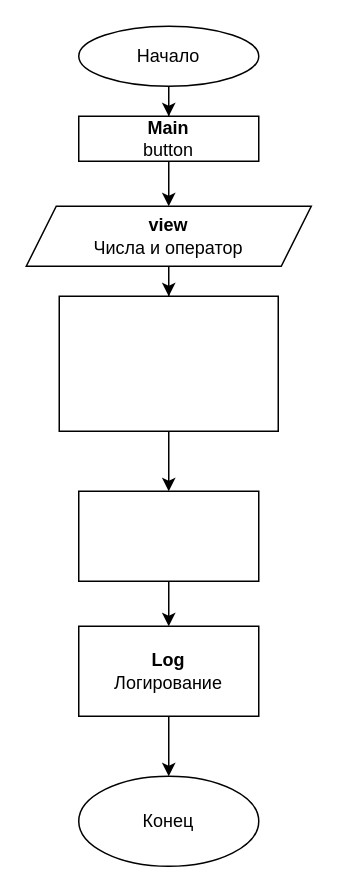
Some shapes in this 338 by 893 pixel diagram are drawn without their labels. Each missing label, with the centre of its shape:
Controller расчёт операции: (x=168, y=535)
Guide перевод текстовой информации о операторах в методы: (x=168, y=363)
